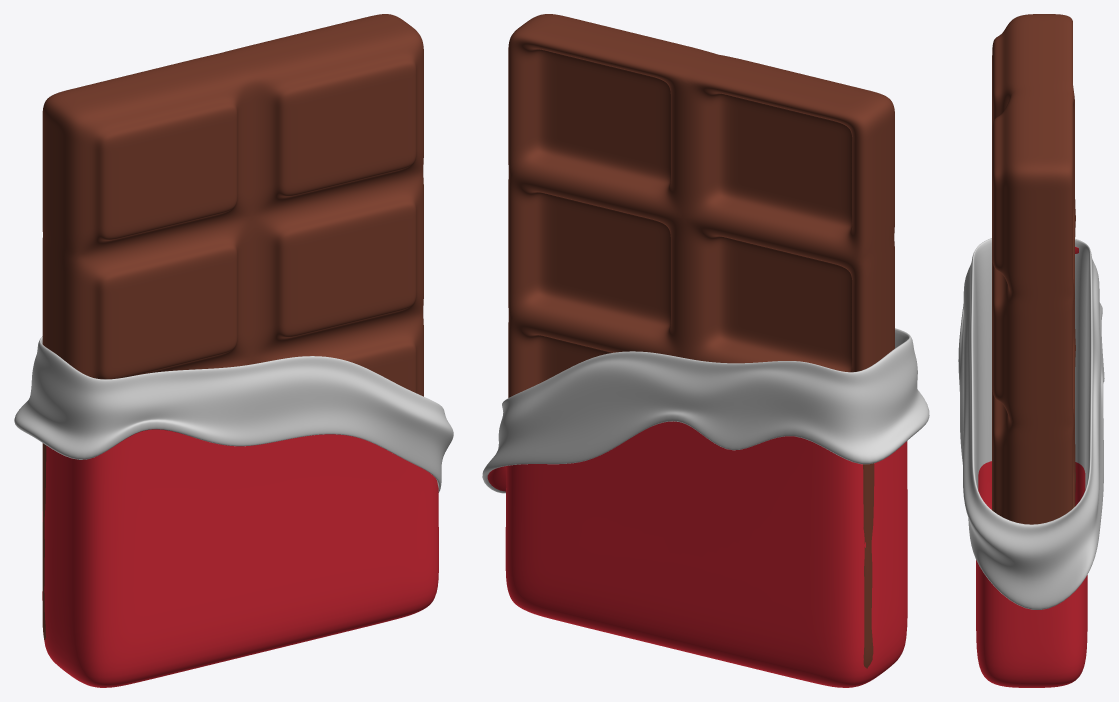
Rendered from Chocolate.fbx.
The picture shows the model from 3 angles, left to right: view 1: azimuth 30°, elevation 25°; view 2: azimuth 150°, elevation 25°; view 3: azimuth 270°, elevation 25°; orthographic projection. The views are drawn at different scales.
Visible parts, largest first — view 1: Chocolate3; view 2: Chocolate3; view 3: Chocolate3.
Part boxes in pixels (x1,y1,x2,y2): Chocolate3: (14, 14, 453, 687); Chocolate3: (482, 14, 929, 687); Chocolate3: (958, 14, 1104, 687).
Bounding box in the file's own units: 3.56 × 4.87 × 1.22.
